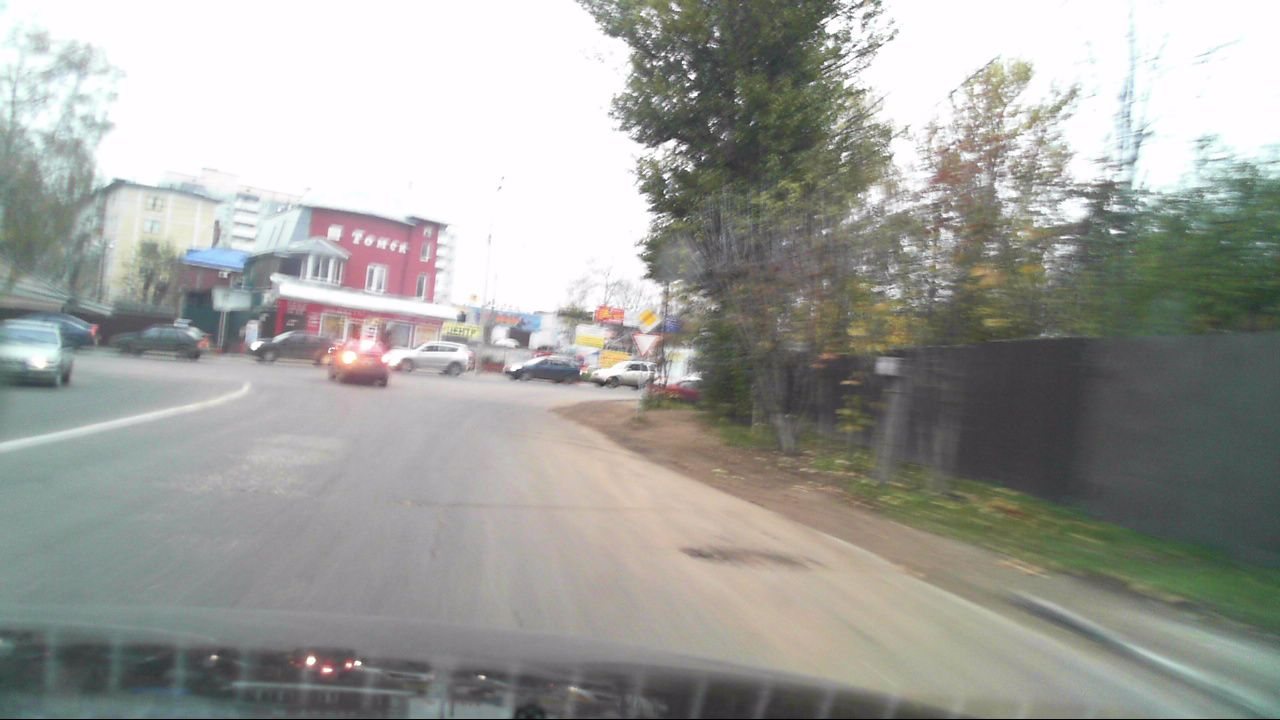main road: (633, 305, 662, 333)
